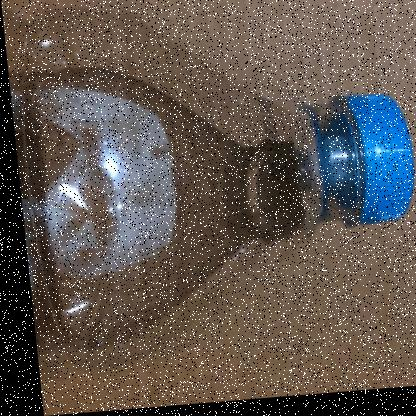bottle cap: (29, 1, 416, 384)
